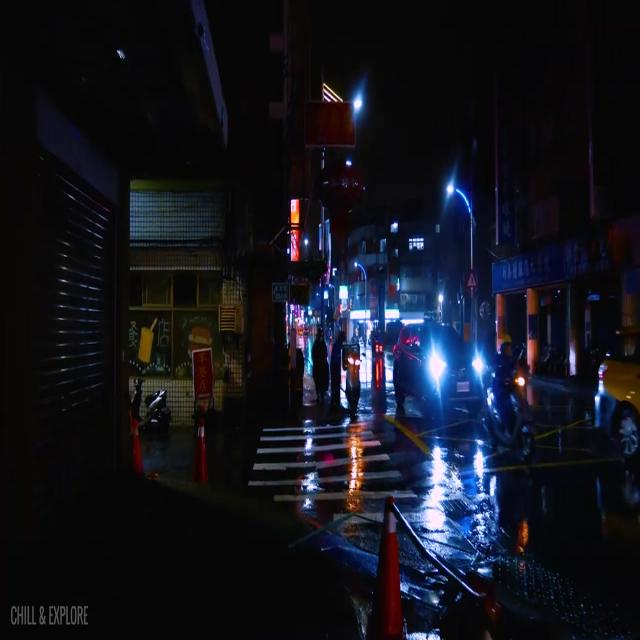Car: (392, 321, 482, 413)
